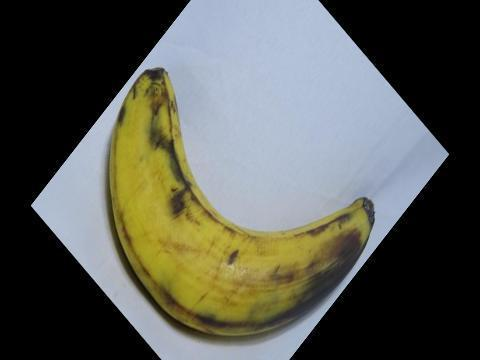ripe: (100, 58, 395, 346)
